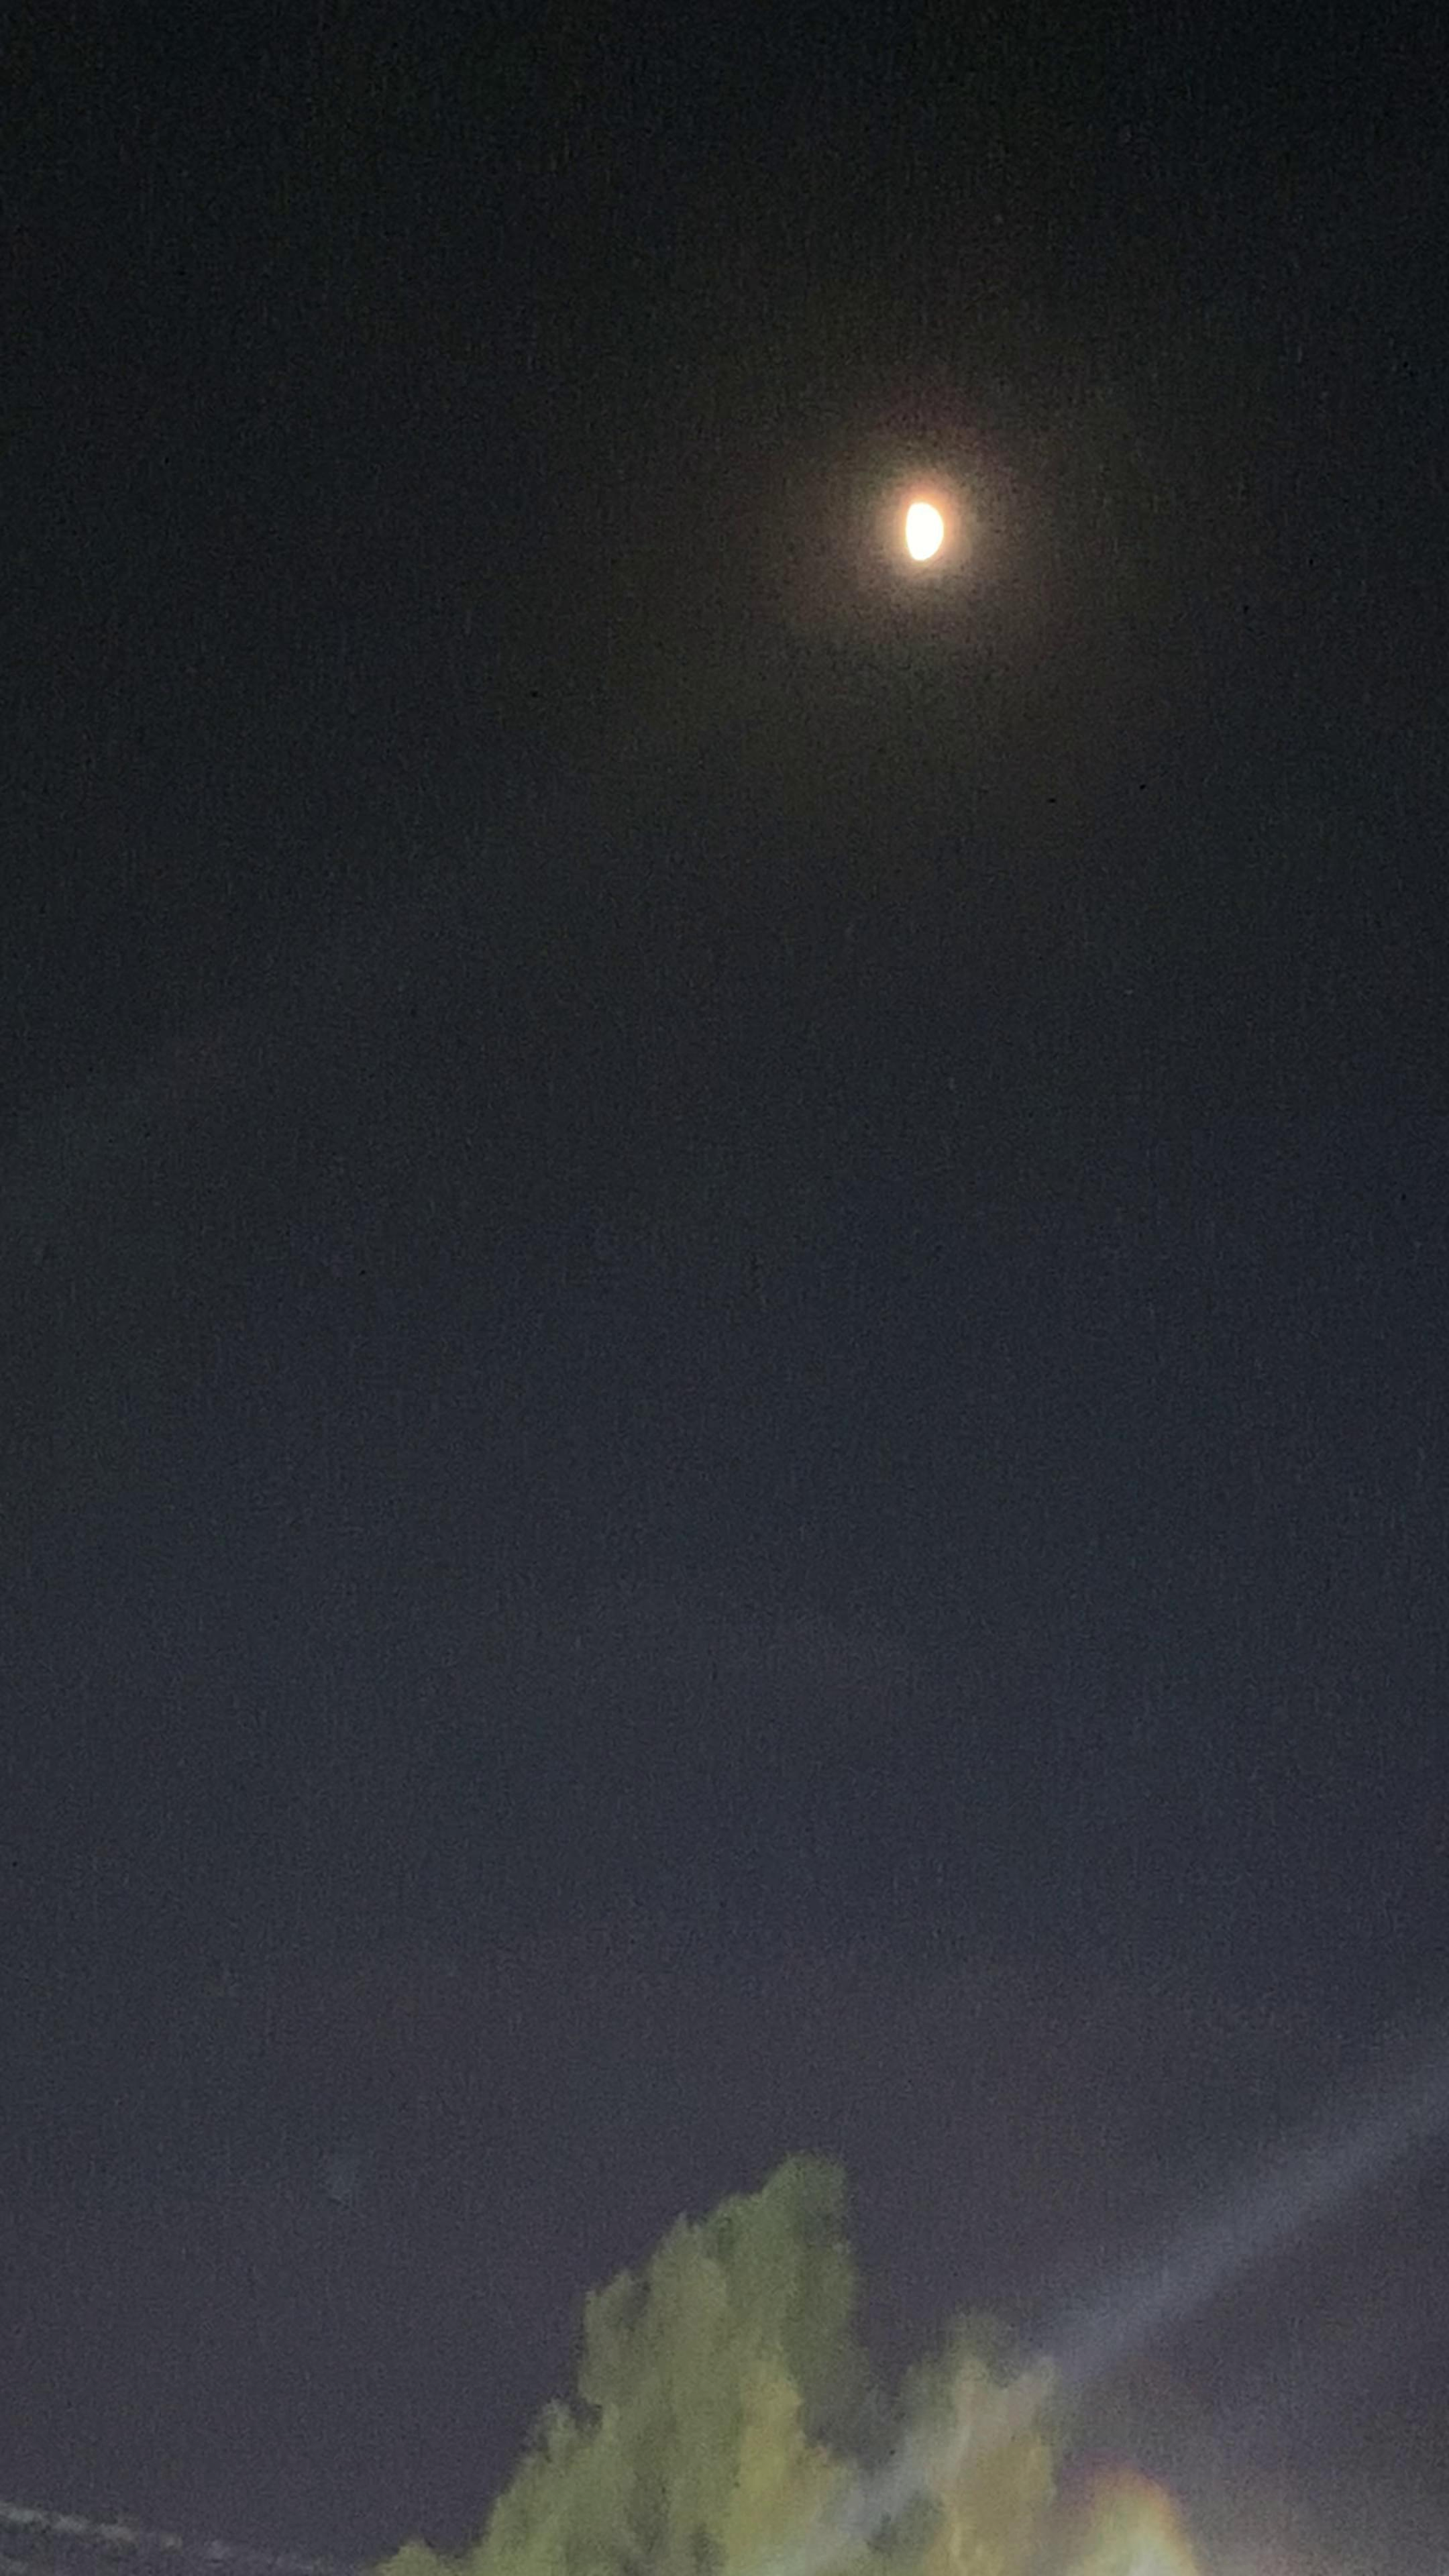moon: (863, 458, 982, 587)
